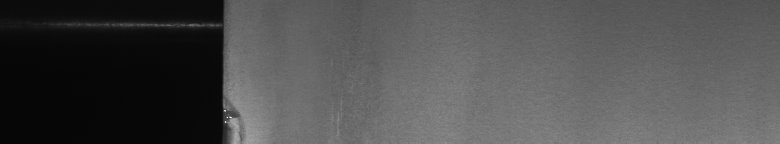hb: (232, 101, 251, 136)
